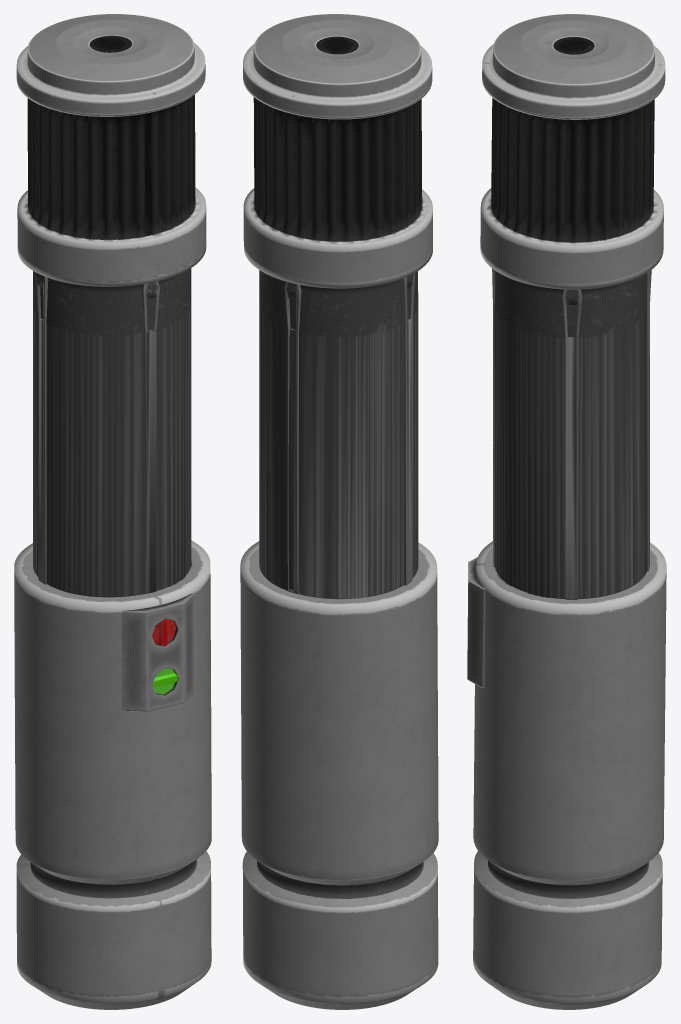
The model's file is Device_4.fbx.
3 views of the same model, side by side, from view 1: azimuth 30°, elevation 25°; view 2: azimuth 150°, elevation 25°; view 3: azimuth 270°, elevation 25° (orthographic).
Visible parts, largest first — view 1: defaultMaterial.004; view 2: defaultMaterial.004; view 3: defaultMaterial.004.
Boxes of the visible parts, <box> form: defaultMaterial.004: <box>14,14,211,1009</box>; defaultMaterial.004: <box>240,14,438,1009</box>; defaultMaterial.004: <box>467,14,666,1009</box>.
Size of the model in its own units: 53.1 by 277 by 53.43.
Materials: 1 (1 with a texture image).
